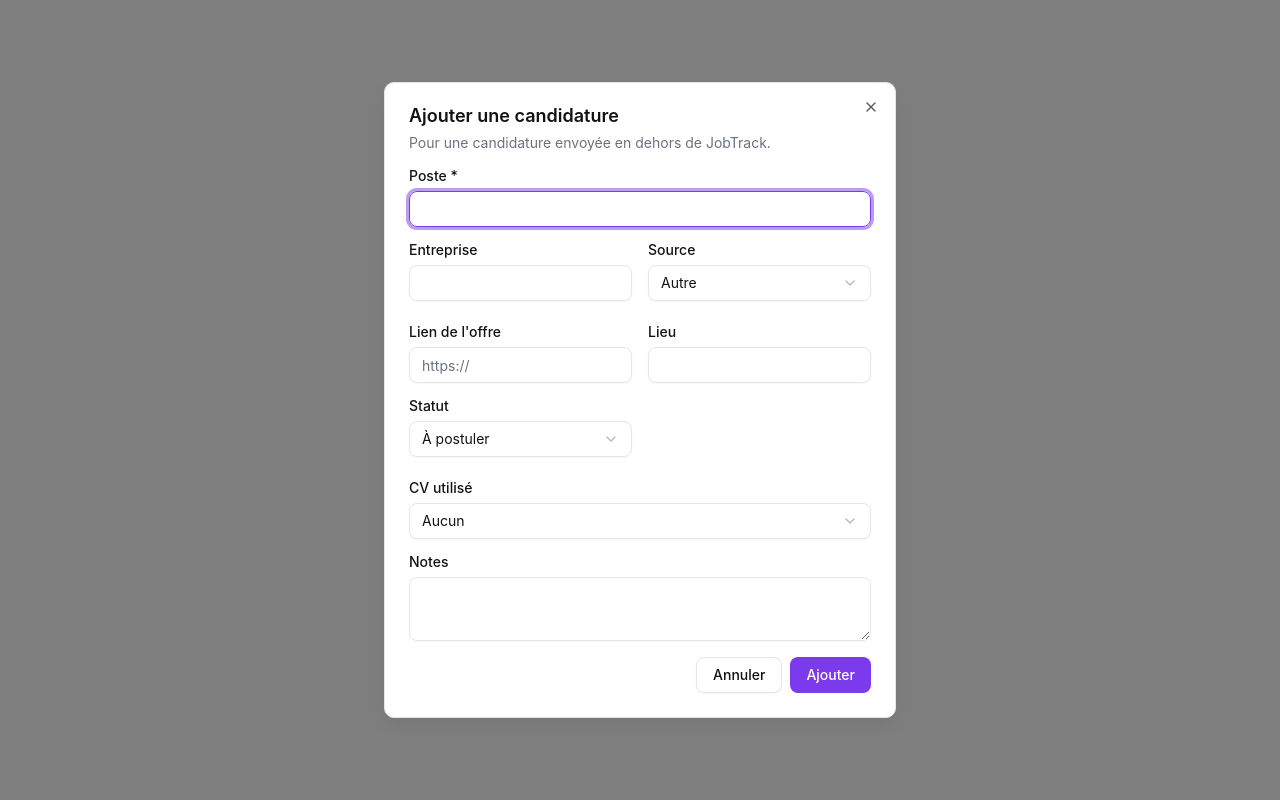
Test case: ApplicationFormDialog en mode manuel › refuse un lien d_offre qui n_est pas http(s)
Type "Business Analyst" into the field labelled "Poste *" at (640, 209), box [409,191,871,227]
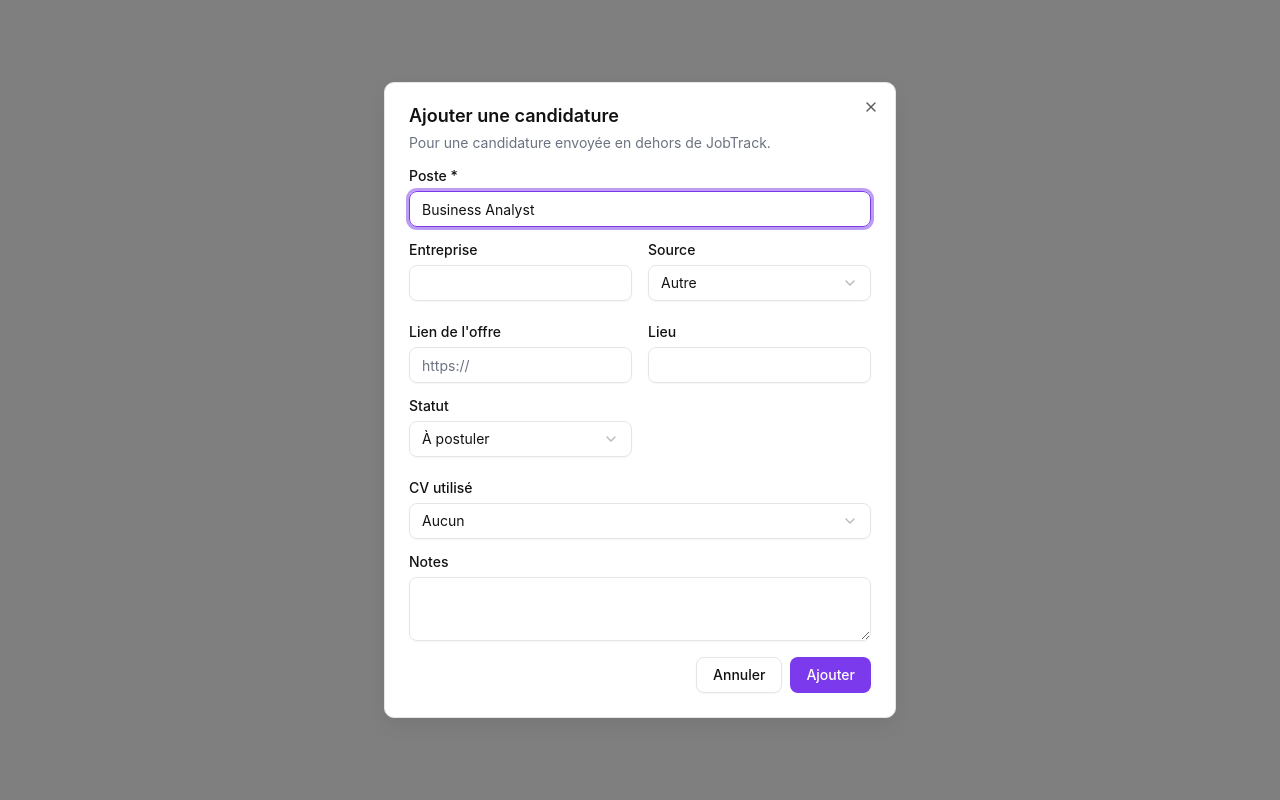
Type "javascript:alert(1)" into the field labelled "Lien de l'offre" at (520, 365), box [409,347,632,383]
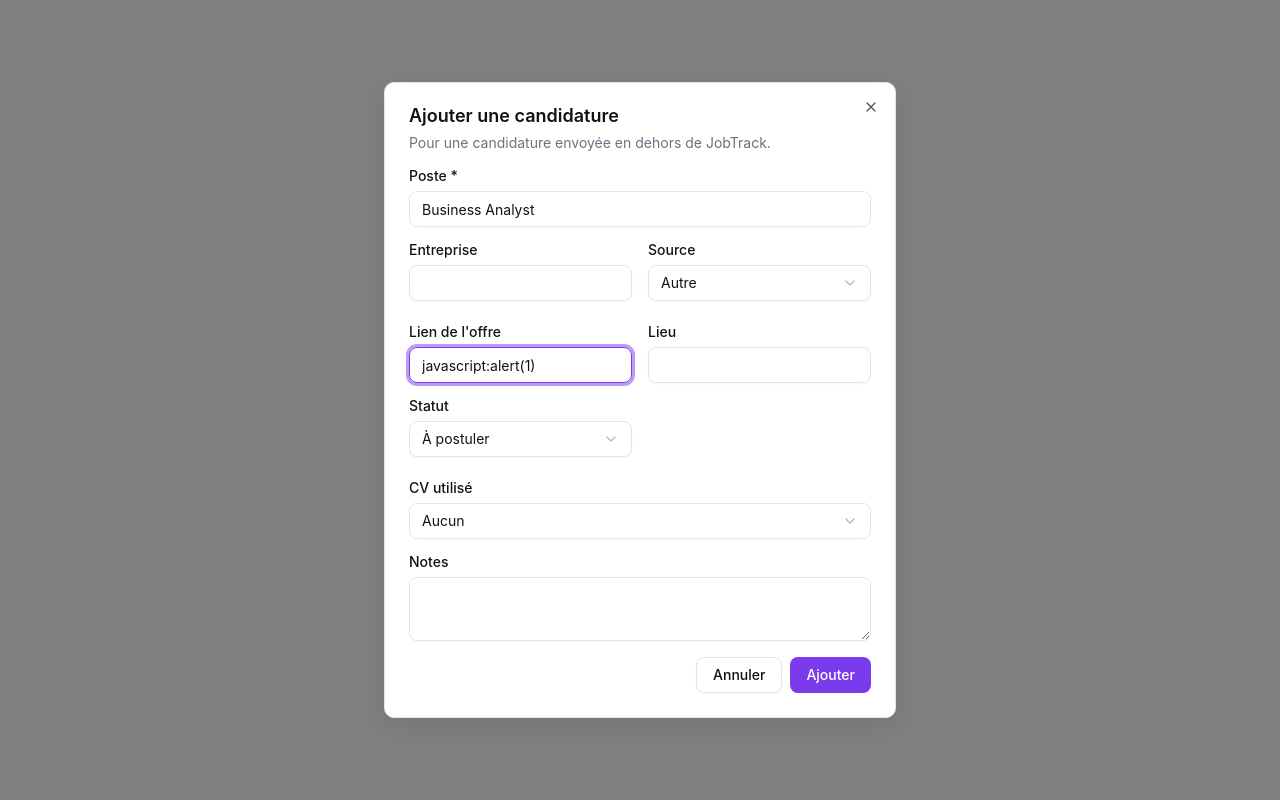
Click the button "Ajouter" at (831, 675), box [790,657,871,693]
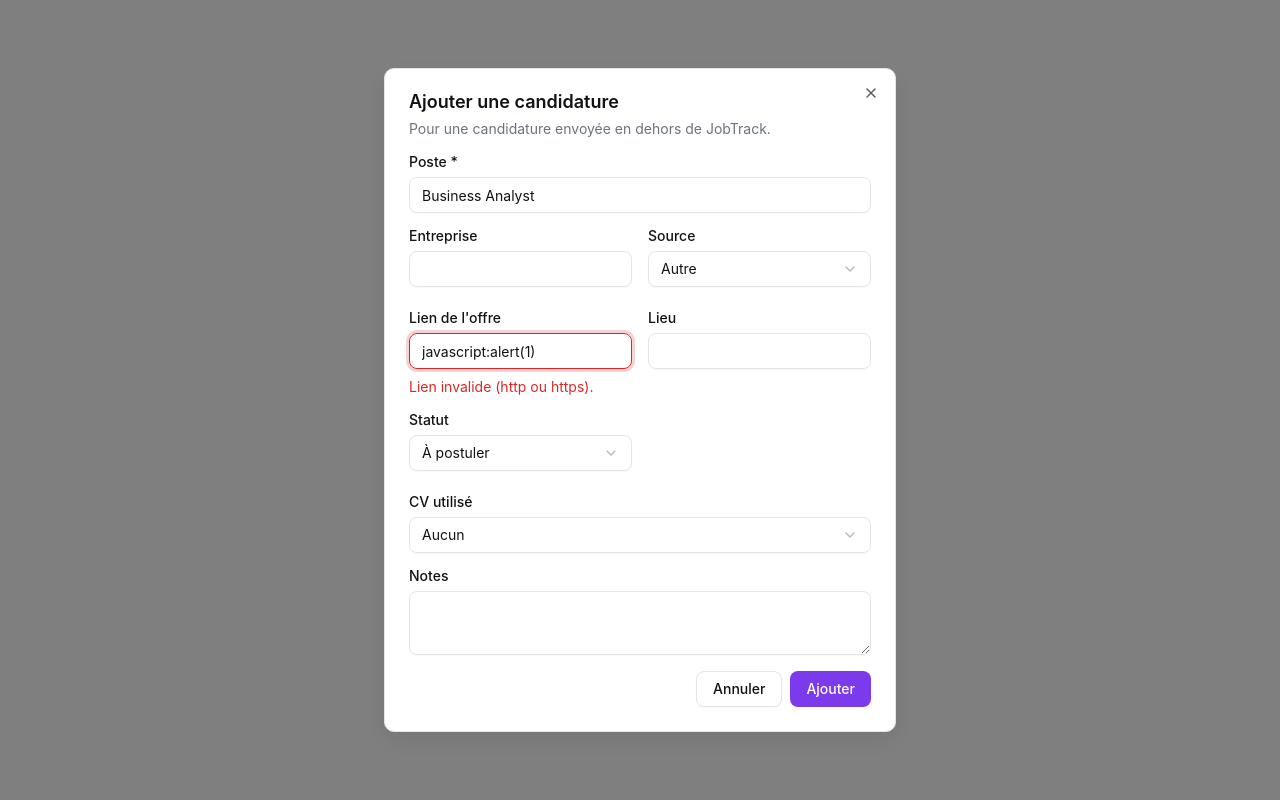
Expected: the message reads "Lien invalide (http ou https).", [409,378,594,395]
